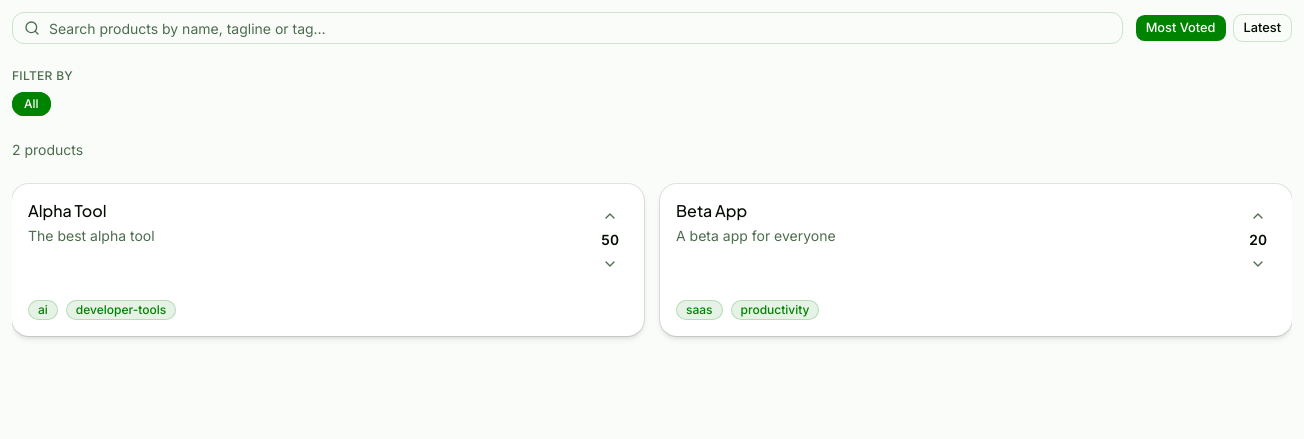
Test case: ProductGrid › shows empty state when no products match search
Type "xyznotexist" into the field with placeholder "Search products by name, tagline or tag…".
click(567, 28); type("xyznotexist")  # box [12,12,1123,44]
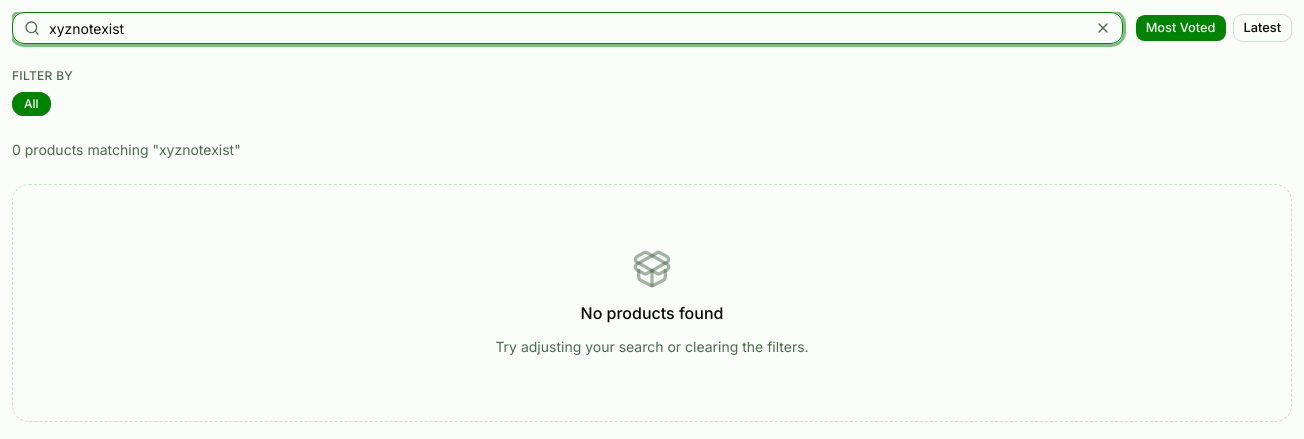
Now the text "No products found" is shown, box [581,301,724,325]
